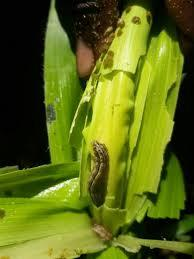fallarmy_worm: (84, 139, 112, 212)
